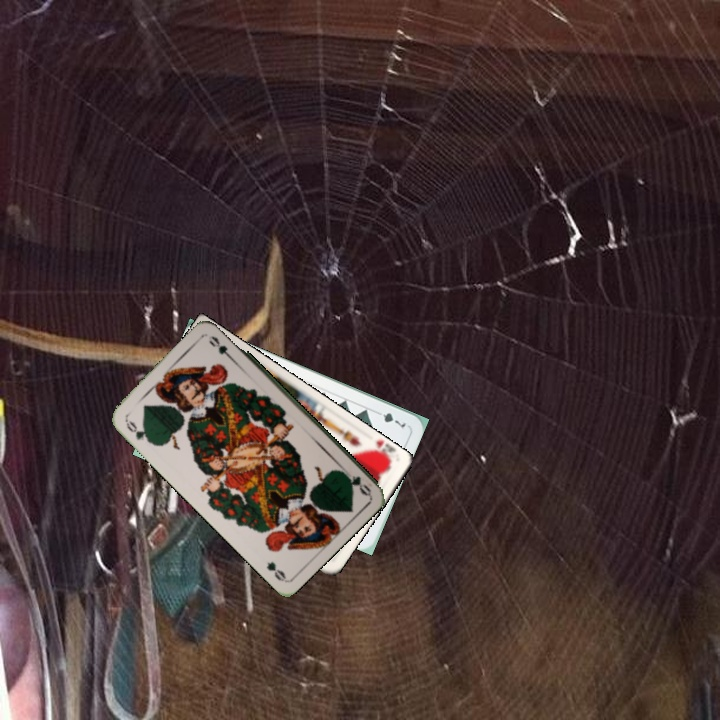G7: (371, 408, 408, 430)
GO: (337, 467, 374, 498), (122, 416, 155, 446)
HK: (364, 436, 397, 467)
